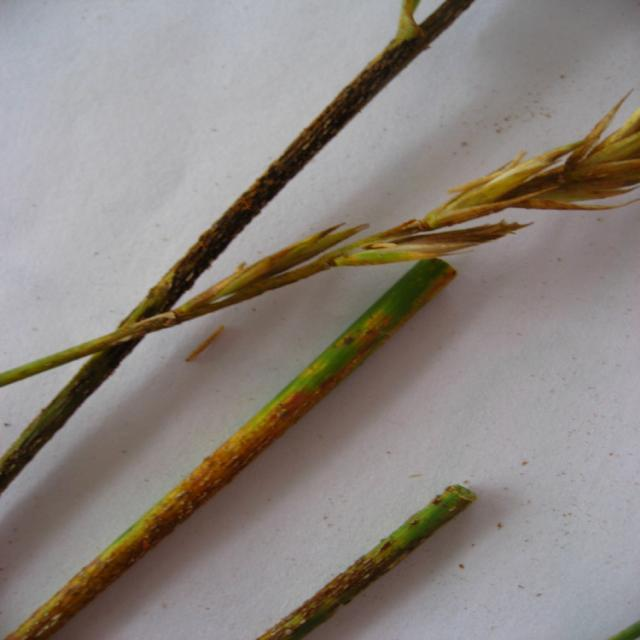wheat-stemrust: (0, 87, 639, 390), (0, 258, 455, 640), (120, 0, 478, 330), (0, 340, 137, 495)
